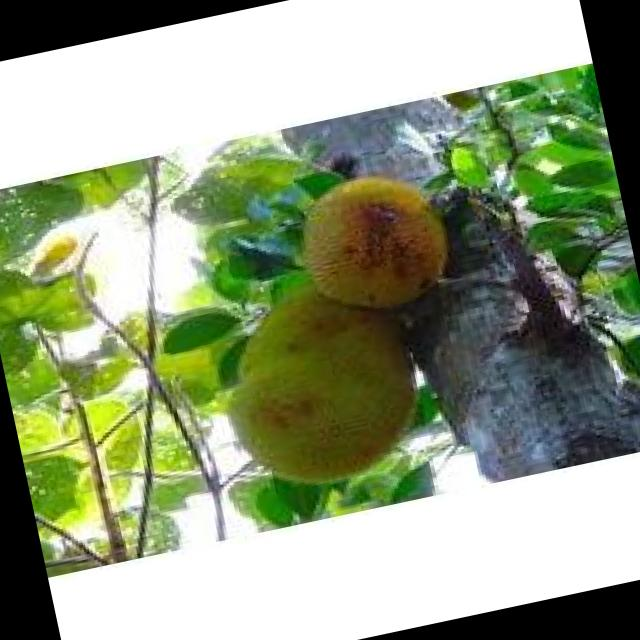Fruit: (182, 247, 447, 518), (282, 149, 472, 339)
